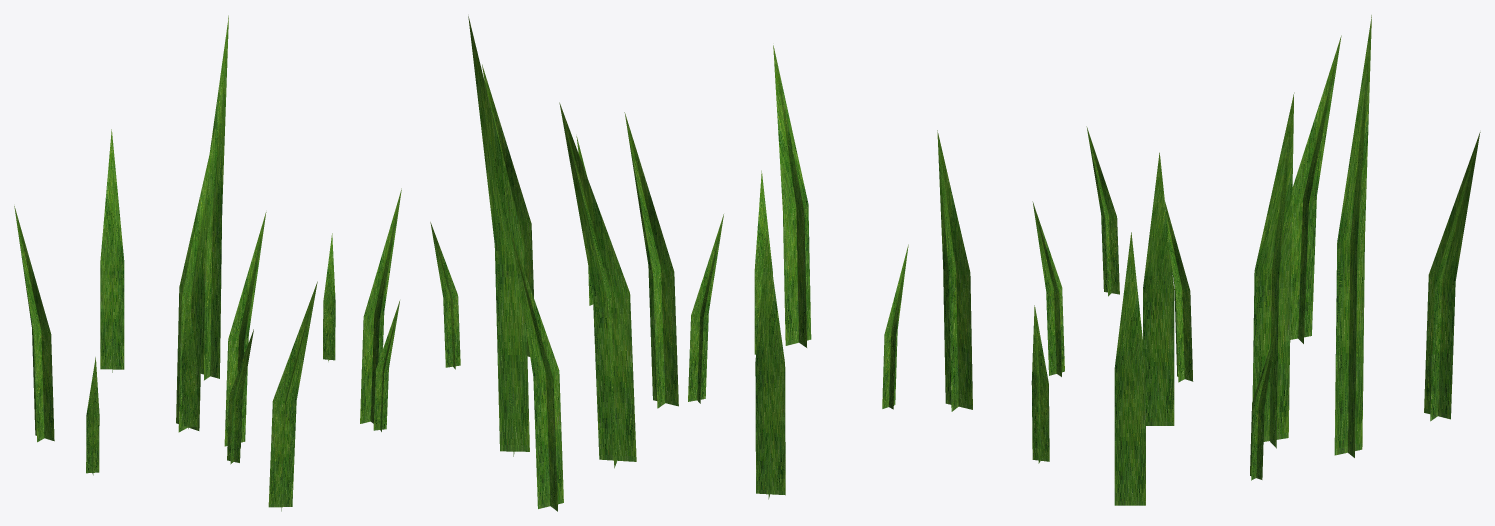
File: Grass_0_1.FBX
3 renders of one model, left to right at view 1: azimuth 30°, elevation 25°; view 2: azimuth 150°, elevation 25°; view 3: azimuth 270°, elevation 25°, orthographic. The views are drawn at different scales.
Parts seen in each view (by area): view 1: NatureGrass; view 2: NatureGrass; view 3: NatureGrass.
Part boxes in pixels (x1,y1,x2,y2): NatureGrass: (14,15,401,511); NatureGrass: (430,16,908,511); NatureGrass: (937,15,1480,505).
Bounding box in the file's own units: 0.8503 × 0.9182 × 0.9453.
